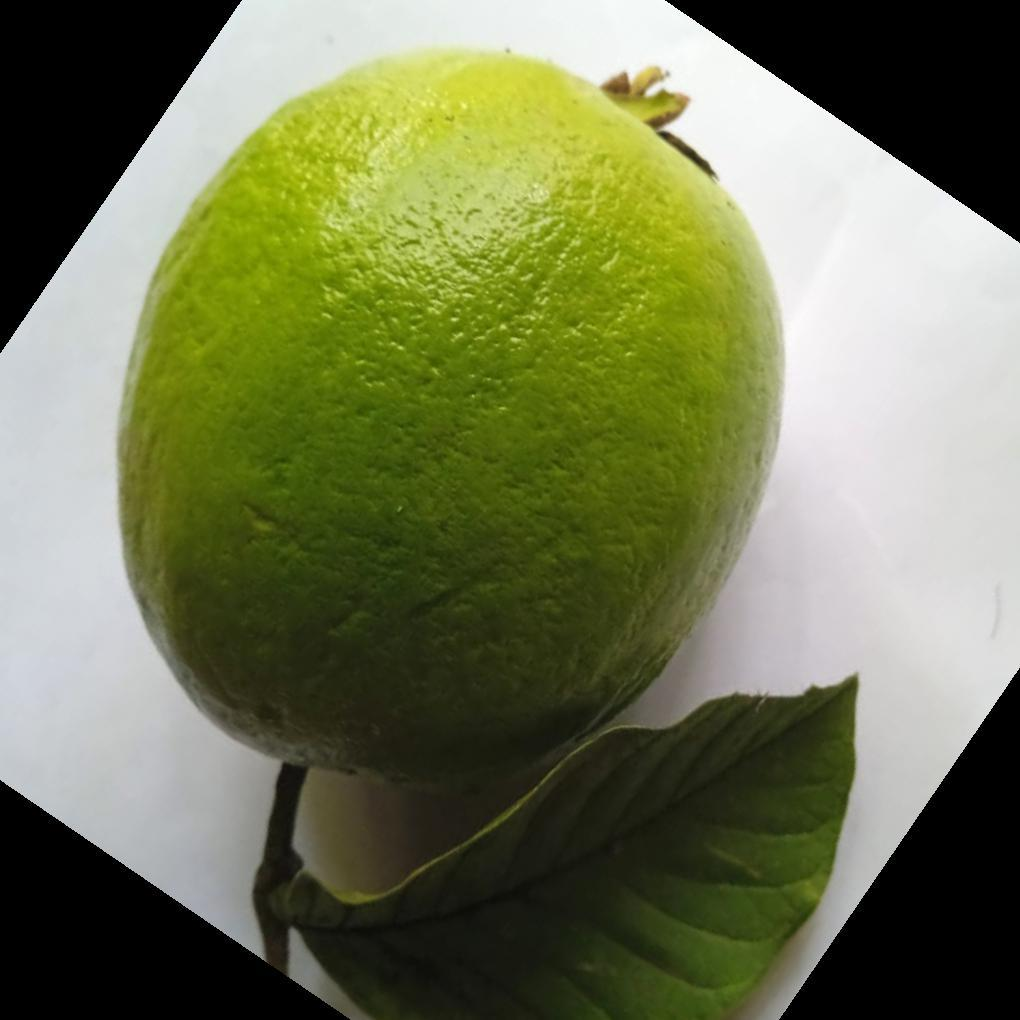FreshGuava: (113, 46, 858, 1020)
